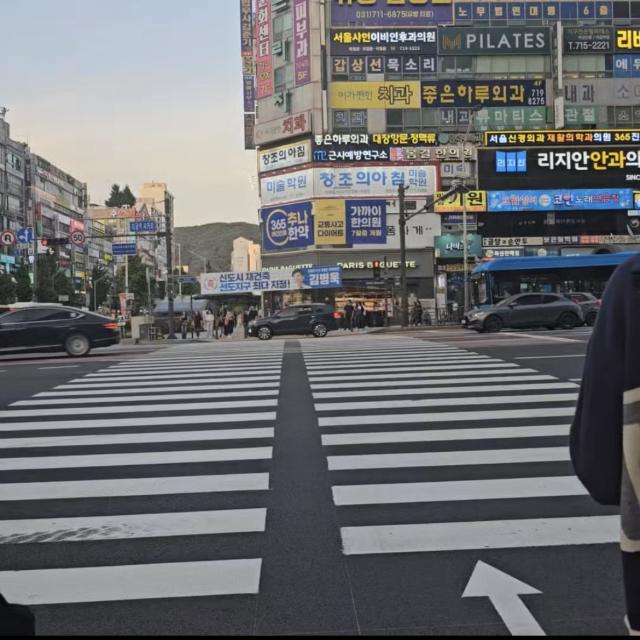red_light: (371, 258, 384, 283)
zebra: (0, 330, 640, 640)
